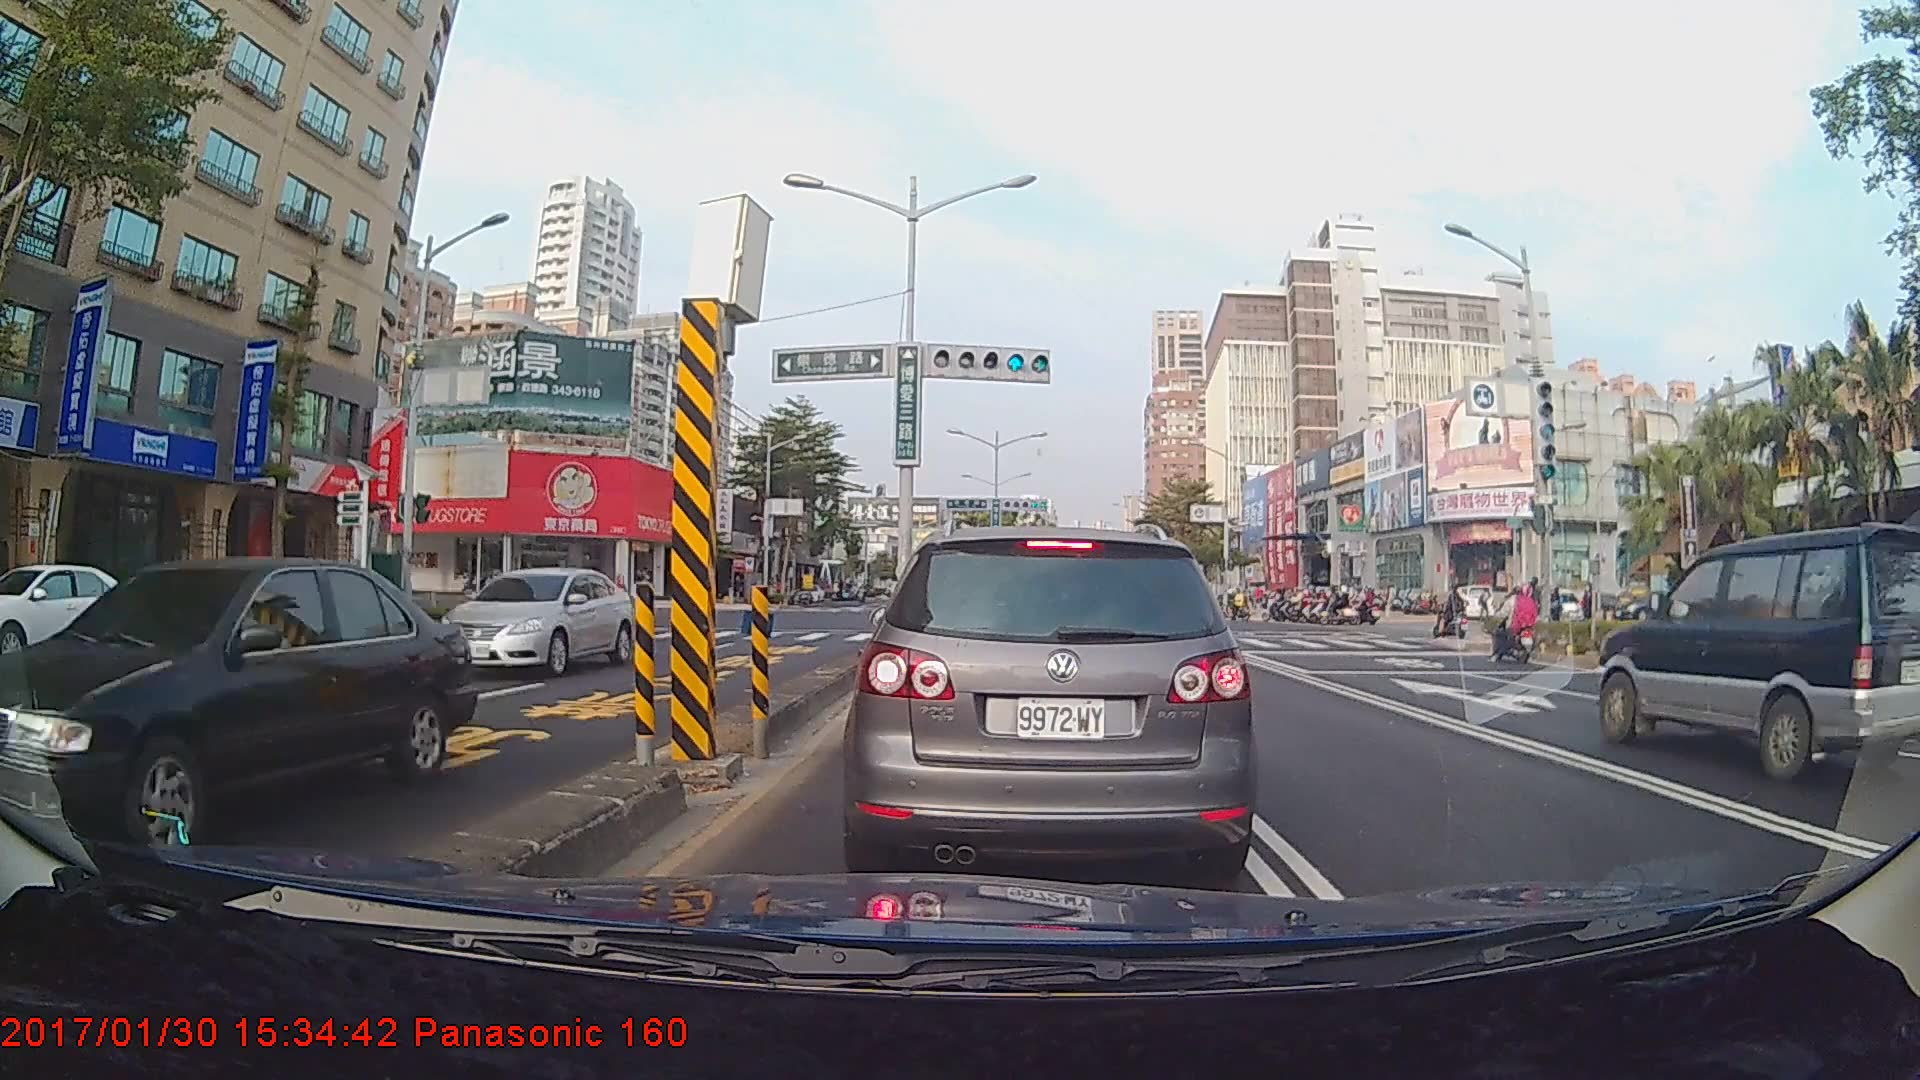rider: (1485, 582, 1548, 668), (1436, 582, 1473, 646)
vehicle: (0, 552, 474, 865), (853, 520, 1251, 883), (1596, 520, 1920, 785), (438, 567, 638, 679), (0, 561, 157, 671)
